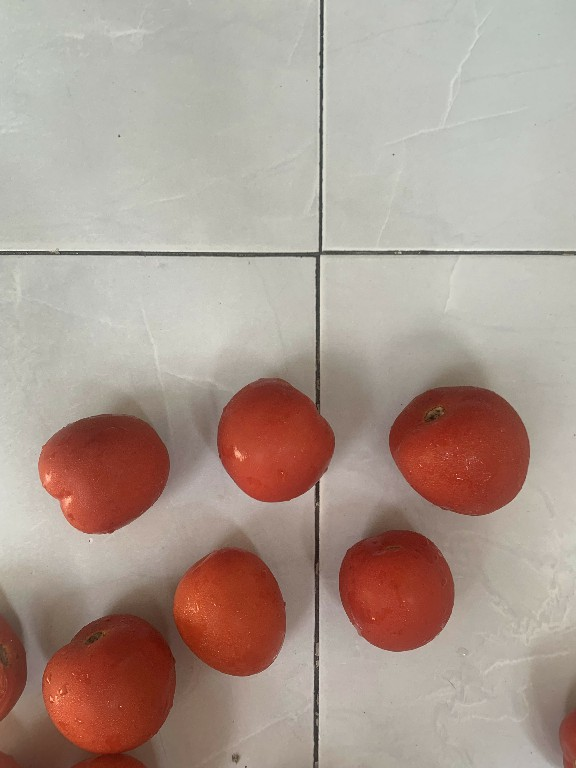OK: (34, 600, 184, 765), (377, 372, 543, 517), (328, 517, 475, 664), (213, 366, 343, 520), (33, 399, 185, 529), (169, 534, 293, 685)
